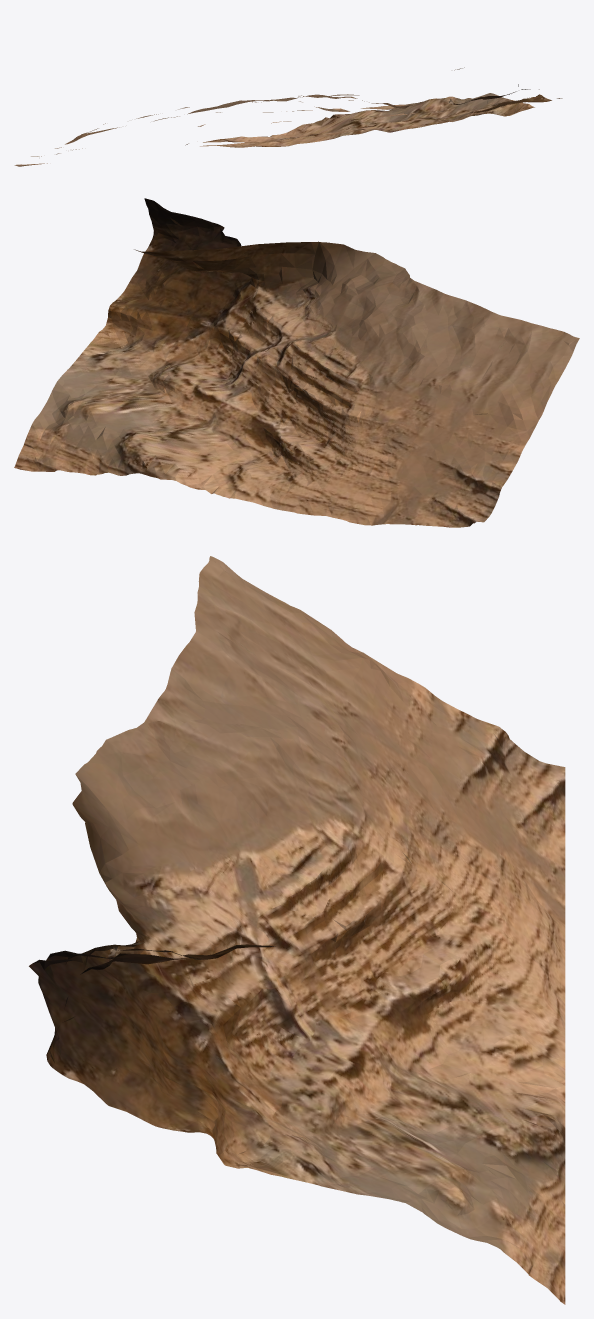
3 views of the same model, one above another, from view 1: azimuth 30°, elevation 25°; view 2: azimuth 150°, elevation 25°; view 3: azimuth 270°, elevation 25° (orthographic). The views are drawn at different scales.
Bounding box in the file's own units: 1.04 × 0.37 × 0.5564.
Materials: 2 (2 with a texture image).
